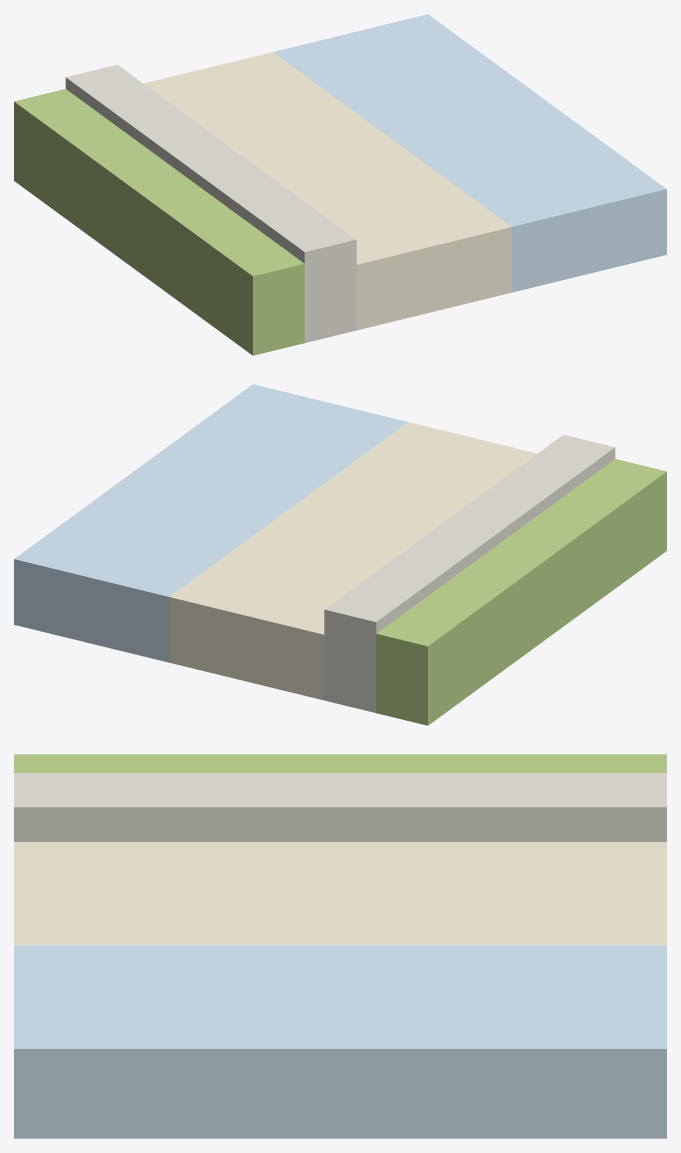
File: road_tile_283.glb
3 views of the same model, one above another, from view 1: azimuth 30°, elevation 25°; view 2: azimuth 150°, elevation 25°; view 3: azimuth 270°, elevation 25° (orthographic). The views are drawn at different scales.
Parts seen in each view (by area): view 1: roadTile_283; view 2: roadTile_283; view 3: roadTile_283.
Boxes of the visible parts, bbox=[...] form: roadTile_283: bbox=[14, 14, 666, 355]; roadTile_283: bbox=[14, 384, 666, 725]; roadTile_283: bbox=[14, 754, 666, 1138].
Bounding box in the file's own units: 3 × 0.63 × 3.
